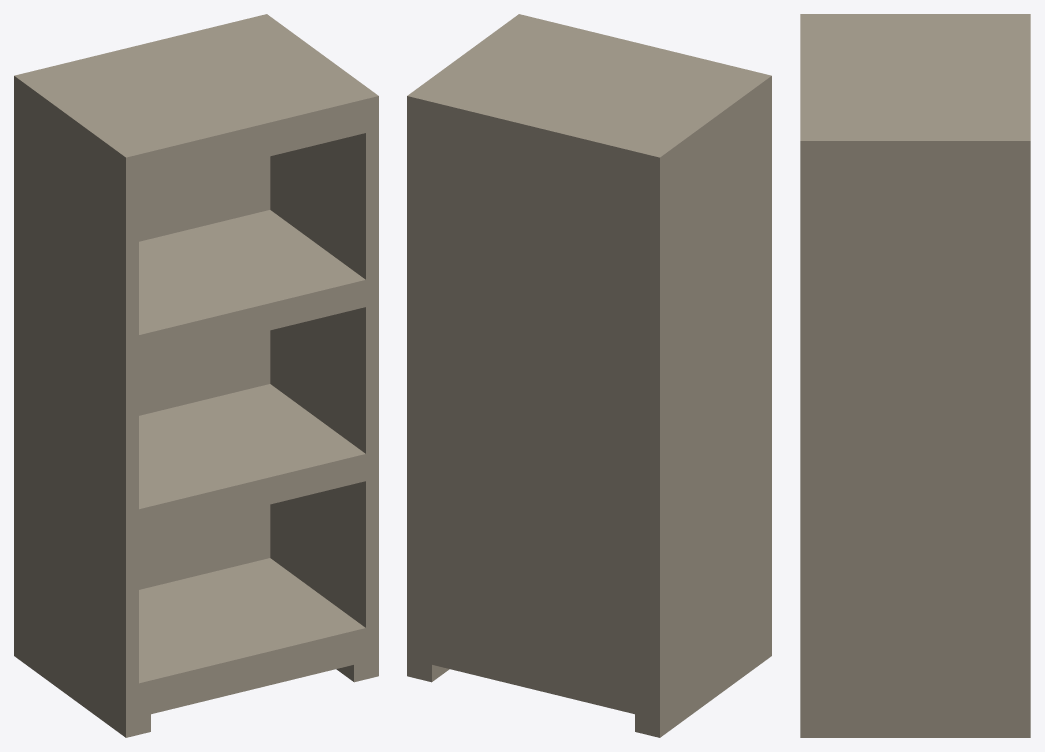
File: bookshelf1.fbx
3 renders of one model, left to right at view 1: azimuth 30°, elevation 25°; view 2: azimuth 150°, elevation 25°; view 3: azimuth 270°, elevation 25°, orthographic. The views are drawn at different scales.
Parts seen in each view (by area): view 1: bookcase1; view 2: bookcase1; view 3: bookcase1.
Part boxes in pixels (x1,y1,x2,y2): bookcase1: (14,14,378,737); bookcase1: (407,14,771,737); bookcase1: (800,14,1030,737).
Bounding box in the file's own units: 0.8934 × 1.96 × 0.6852.
